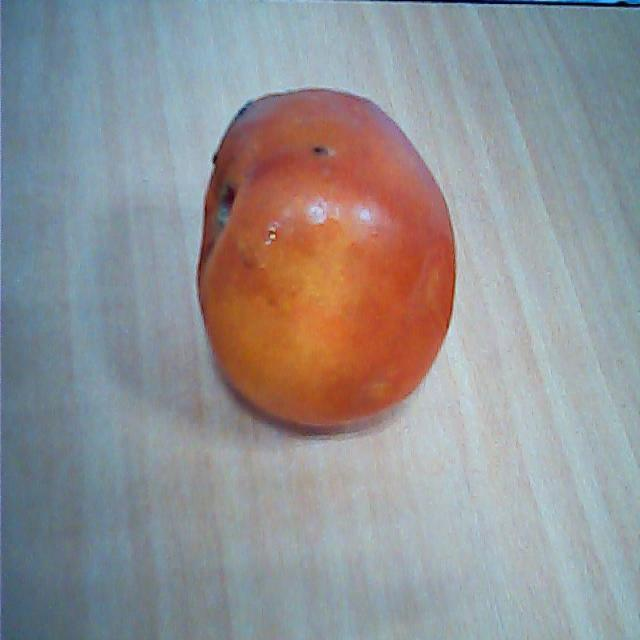defectuoso: (184, 84, 461, 437)
